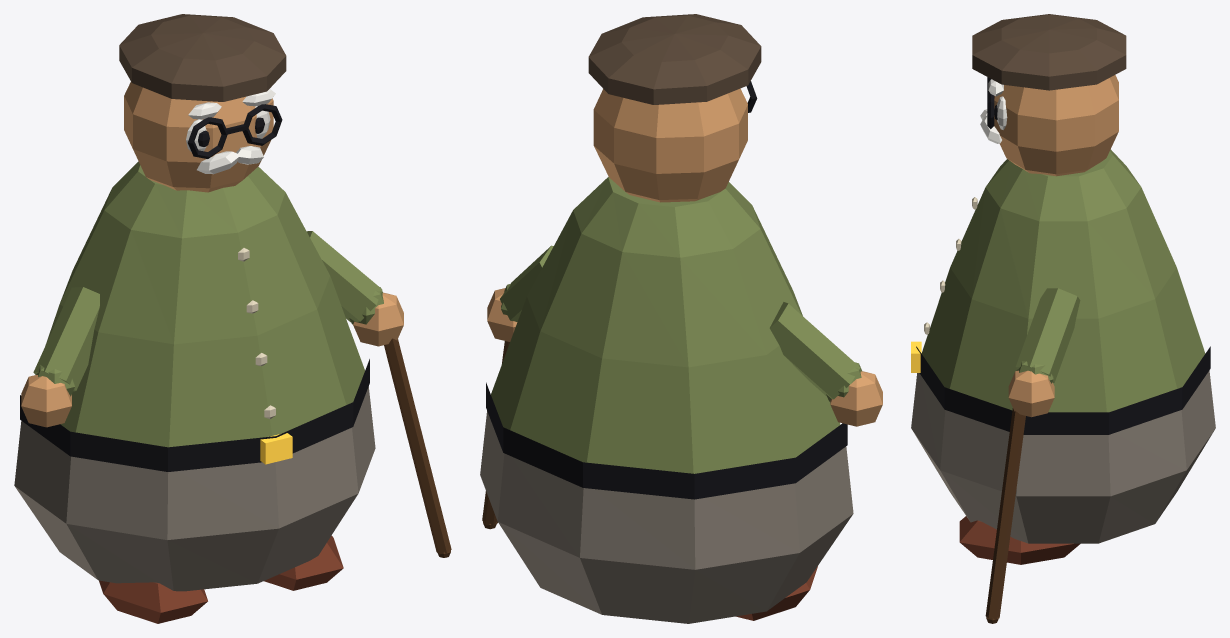
Rendered from npc_abuelo.glb.
The picture shows the model from 3 angles, left to right: view 1: azimuth 30°, elevation 25°; view 2: azimuth 150°, elevation 25°; view 3: azimuth 270°, elevation 25°; orthographic projection. The views are drawn at different scales.
Visible parts, largest first — view 1: body_cardigan, body_abuelo_pants, cap_flatcap, head_skin_arena, body_black, arms_cardigan, legs_slippers, arms_skin_arena, props_cane, face_white, face_black, body_gold; view 2: body_cardigan, body_abuelo_pants, head_skin_arena, cap_flatcap, body_black, arms_cardigan, arms_skin_arena, legs_slippers; view 3: body_cardigan, body_abuelo_pants, cap_flatcap, head_skin_arena, body_black, arms_cardigan, props_cane, legs_slippers, arms_skin_arena, face_white.
Boxes of the visible parts, <box> form: body_cardigan: <box>45,161,364,447</box>; body_abuelo_pants: <box>14,386,375,591</box>; cap_flatcap: <box>119,14,286,101</box>; head_skin_arena: <box>124,82,273,192</box>; body_black: <box>20,359,369,471</box>; arms_cardigan: <box>33,231,383,396</box>; legs_slippers: <box>99,535,343,623</box>; arms_skin_arena: <box>21,292,403,427</box>; props_cane: <box>384,338,451,557</box>; face_white: <box>186,89,275,174</box>; face_black: <box>187,104,282,158</box>; body_gold: <box>260,433,292,464</box>; body_cardigan: <box>491,177,840,473</box>; body_abuelo_pants: <box>480,411,853,623</box>; head_skin_arena: <box>593,88,747,202</box>; cap_flatcap: <box>588,14,761,104</box>; body_black: <box>486,382,847,499</box>; arms_cardigan: <box>500,245,861,401</box>; arms_skin_arena: <box>487,288,882,426</box>; legs_slippers: <box>735,566,817,620</box>; body_cardigan: <box>921,149,1205,412</box>; body_abuelo_pants: <box>911,370,1215,543</box>; cap_flatcap: <box>972,14,1126,90</box>; head_skin_arena: <box>994,75,1118,176</box>; body_black: <box>916,346,1210,434</box>; arms_cardigan: <box>1015,288,1080,383</box>; props_cane: <box>985,408,1025,623</box>; legs_slippers: <box>959,516,1080,564</box>; arms_skin_arena: <box>1008,370,1054,417</box>; face_white: <box>980,79,1007,143</box>.
Size of the model in its own units: 1.2 by 1.56 by 0.86.
